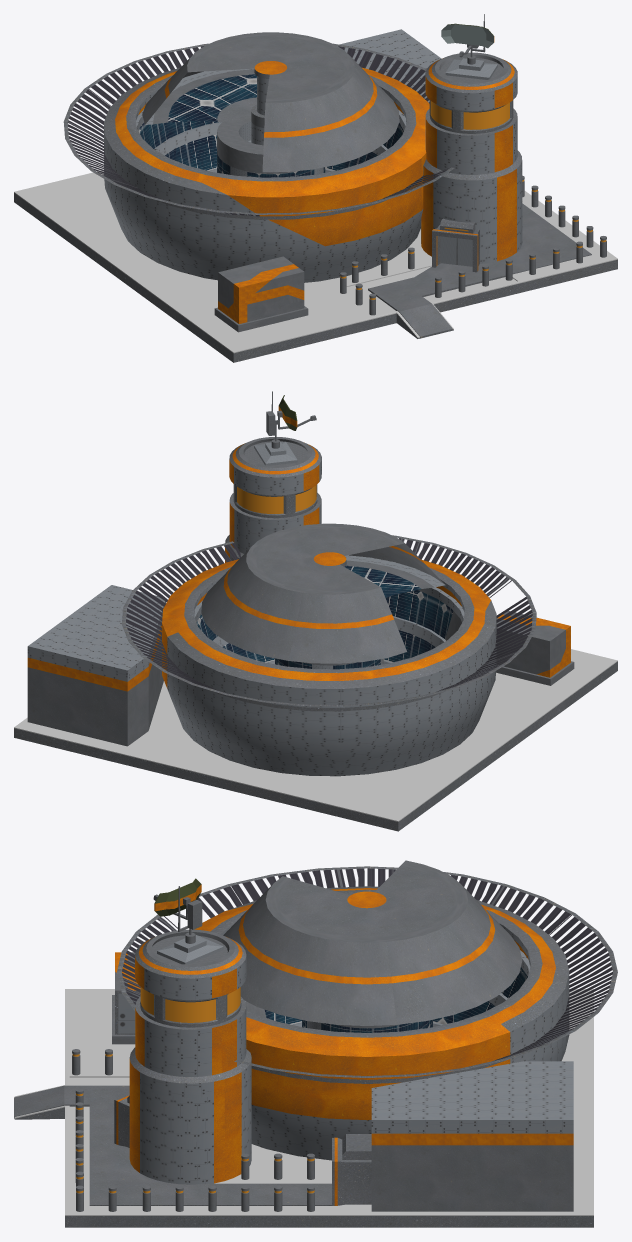
The model's file is Dronehub.gltf.
3 renders of one model, top to bottom at view 1: azimuth 30°, elevation 25°; view 2: azimuth 150°, elevation 25°; view 3: azimuth 270°, elevation 25°, orthographic. The views are drawn at different scales.
Parts seen in each view (by area): view 1: Dronehub_Main, Dronehub_Luke, Dronehub_Sat; view 2: Dronehub_Main, Dronehub_Luke, Dronehub_Sat; view 3: Dronehub_Main, Dronehub_Luke, Dronehub_Sat.
Part boxes in pixels (x1=…): Dronehub_Main: x1=14, y1=29, x2=617, y2=362; Dronehub_Luke: x1=142, y1=32, x2=399, y2=172; Dronehub_Sat: x1=441, y1=14, x2=494, y2=64; Dronehub_Main: x1=14, y1=437, x2=617, y2=831; Dronehub_Luke: x1=201, y1=523, x2=445, y2=663; Dronehub_Sat: x1=266, y1=391, x2=316, y2=448; Dronehub_Main: x1=14, y1=866, x2=617, y2=1227; Dronehub_Luke: x1=223, y1=860, x2=522, y2=1025; Dronehub_Sat: x1=153, y1=878, x2=202, y2=943.
Bounding box in the file's own units: 22.12 × 12.74 × 23.93.
